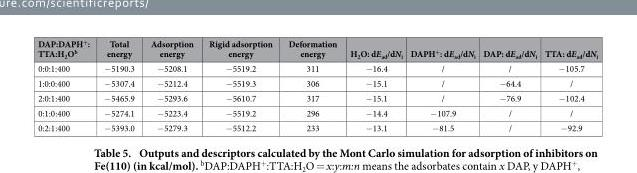table: (37, 37, 597, 133)
table column: (200, 37, 279, 133), (405, 37, 478, 133), (279, 37, 342, 133), (342, 37, 405, 133), (478, 37, 540, 133), (37, 37, 96, 133), (141, 37, 200, 133), (540, 37, 597, 133), (96, 37, 141, 133)
table column header: (37, 37, 597, 60)
table row: (37, 37, 597, 60), (37, 60, 597, 75), (37, 75, 597, 90), (37, 90, 597, 105), (37, 105, 597, 120), (37, 120, 597, 133)
